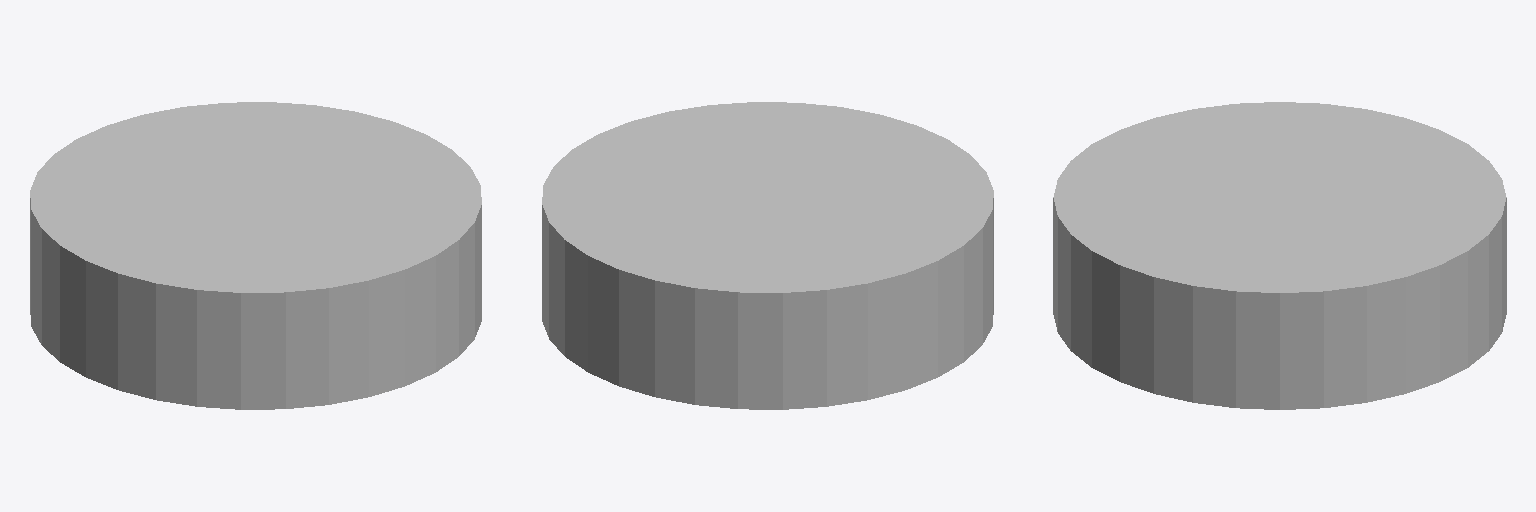
File: kolo.obj
3 renders of one model, left to right at view 1: azimuth 30°, elevation 25°; view 2: azimuth 150°, elevation 25°; view 3: azimuth 270°, elevation 25°, orthographic.
Visible parts, largest first — view 1: Mesh, Mesh.001; view 2: Mesh, Mesh.001; view 3: Mesh, Mesh.001.
Boxes of the visible parts, x1=… form: Mesh: x1=30, y1=102, x2=481, y2=409; Mesh.001: x1=108, y1=135, x2=403, y2=259; Mesh: x1=542, y1=102, x2=993, y2=409; Mesh.001: x1=620, y1=135, x2=915, y2=259; Mesh: x1=1053, y1=102, x2=1506, y2=409; Mesh.001: x1=1132, y1=135, x2=1427, y2=259.
Bounding box in the file's own units: 1.05 × 0.2985 × 1.05.